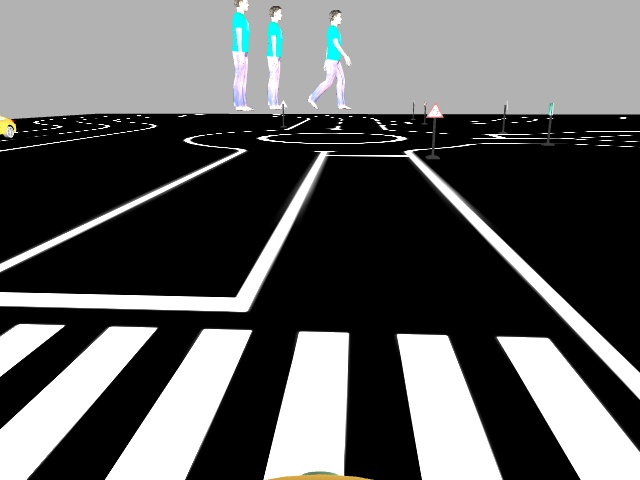Roundabout: (424, 101, 446, 119)
